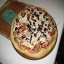olives: (39, 24, 50, 37), (25, 21, 36, 33), (33, 9, 41, 21)
pizza: (10, 6, 58, 60)
